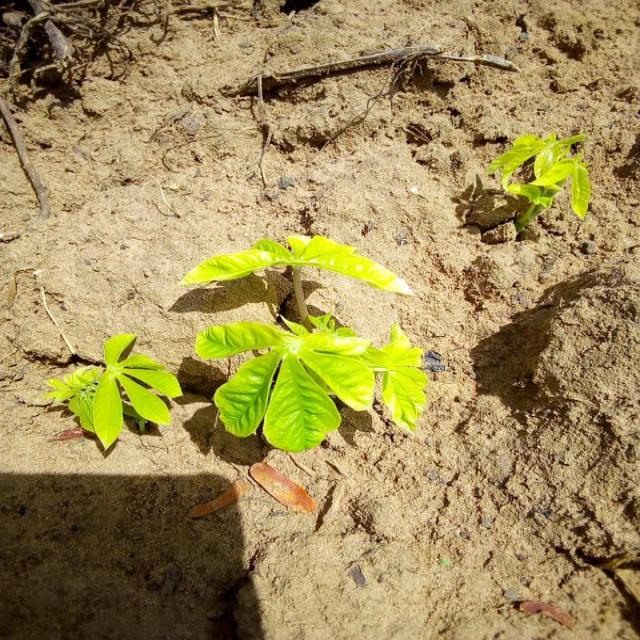cassava leaf: (195, 312, 428, 453), (46, 331, 182, 451), (180, 232, 414, 298), (486, 129, 592, 234)
